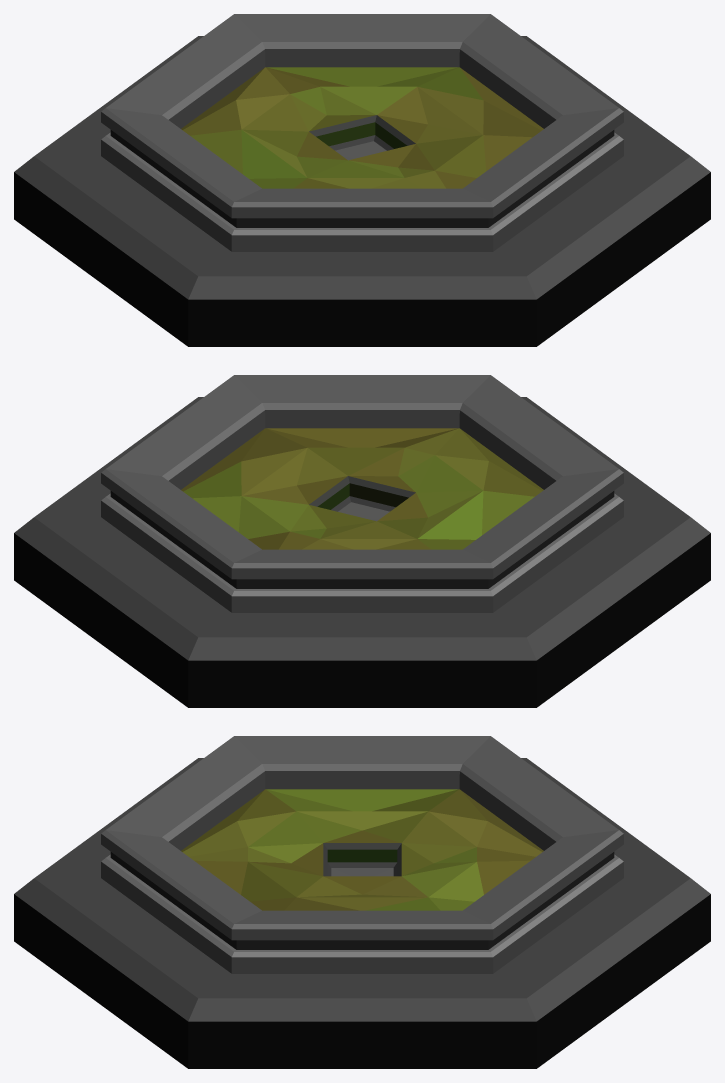
Rendered from hex_fieldTile.fbx.
The picture shows the model from 3 angles, top to bottom: view 1: azimuth 30°, elevation 25°; view 2: azimuth 150°, elevation 25°; view 3: azimuth 270°, elevation 25°; orthographic projection.
Parts seen in each view (by area): view 1: hex_fieldTile; view 2: hex_fieldTile; view 3: hex_fieldTile.
Part boxes in pixels (x1,y1,x2,y2): hex_fieldTile: [14, 14, 710, 346]; hex_fieldTile: [14, 375, 710, 707]; hex_fieldTile: [14, 736, 710, 1068].
Size of the model in its own units: 1.73 by 0.3529 by 2.
